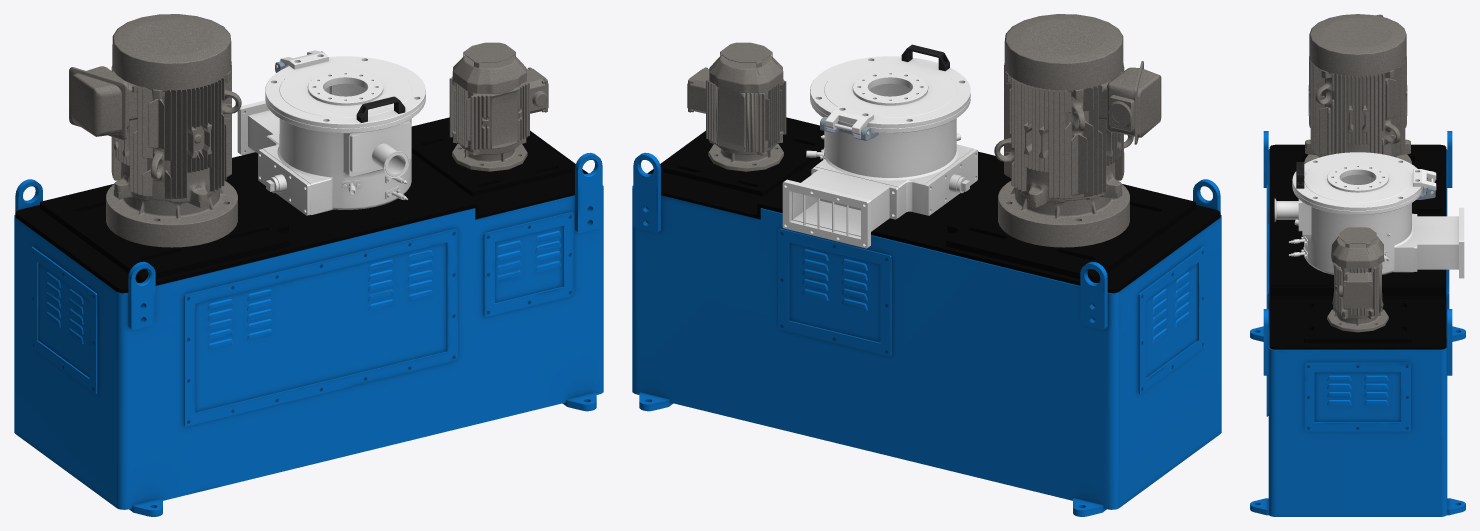
The picture shows the model from 3 angles, left to right: view 1: azimuth 30°, elevation 25°; view 2: azimuth 150°, elevation 25°; view 3: azimuth 270°, elevation 25°; orthographic projection. The views are drawn at different scales.
Visible parts, largest first — view 1: base, モータ(11kW_2P_枠番160M_日立).001, ミルハウジングボディ.001, ミルハウジングボディ, モータ(11kW_2P_枠番160M_日立); view 2: base, モータ(11kW_2P_枠番160M_日立).001, ミルハウジングボディ, ミルハウジングボディ.001, モータ(11kW_2P_枠番160M_日立); view 3: base, ミルハウジングボディ.001, ミルハウジングボディ, モータ(11kW_2P_枠番160M_日立).001, モータ(11kW_2P_枠番160M_日立).
Part boxes in pixels (<box>): base: <box>14,152,603,516</box>; モータ(11kW_2P_枠番160M_日立).001: <box>69,14,241,247</box>; ミルハウジングボディ.001: <box>15,117,588,293</box>; ミルハウジングボディ: <box>237,50,425,215</box>; モータ(11kW_2P_枠番160M_日立): <box>449,42,548,171</box>; base: <box>632,152,1221,516</box>; モータ(11kW_2P_枠番160M_日立).001: <box>994,14,1161,247</box>; ミルハウジングボディ: <box>782,44,977,248</box>; ミルハウジングボディ.001: <box>647,117,1220,293</box>; モータ(11kW_2P_枠番160M_日立): <box>687,42,786,171</box>; base: <box>1250,131,1465,516</box>; ミルハウジングボディ.001: <box>1269,144,1446,349</box>; ミルハウジングボディ: <box>1274,152,1464,278</box>; モータ(11kW_2P_枠番160M_日立).001: <box>1304,14,1411,163</box>; モータ(11kW_2P_枠番160M_日立): <box>1327,227,1388,332</box>.
Size of the model in its own units: 1.5 by 1.2 by 0.7.
5 materials, 5 textured.
